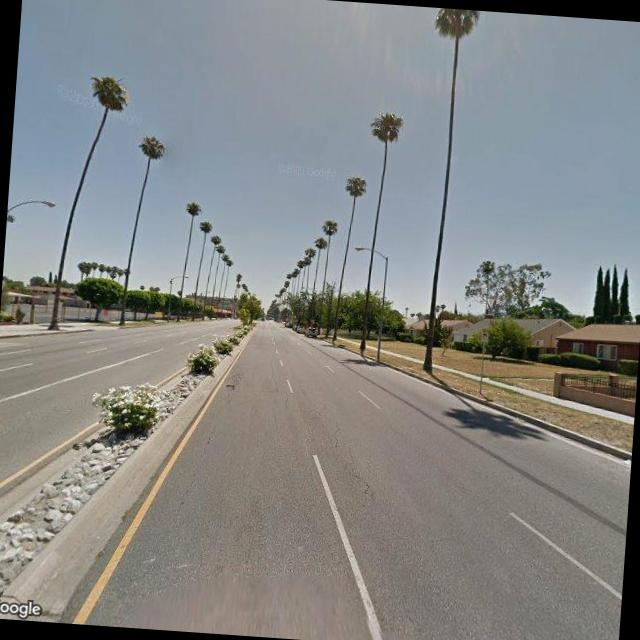pothole: (346, 468, 378, 502)
